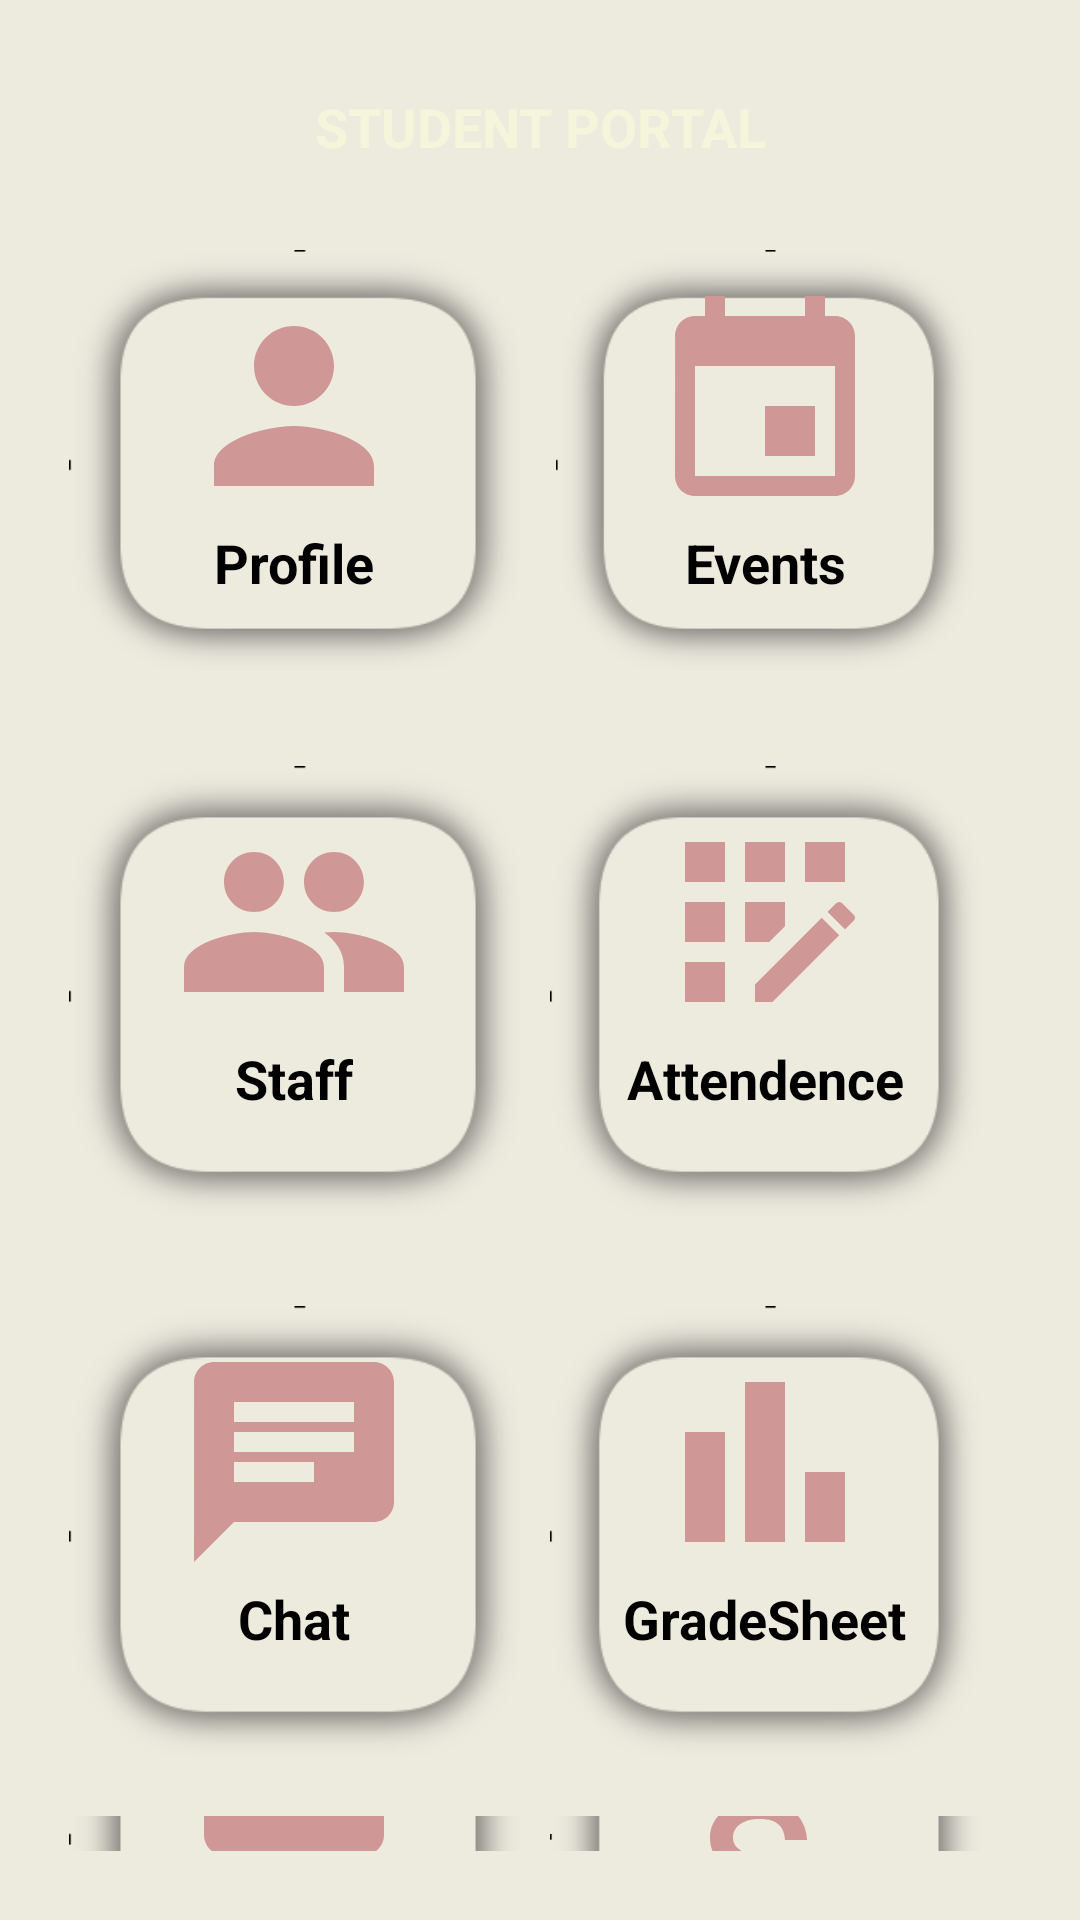

Icon click points for this 1080×1920 phone screenshot, format (x,y):
bar chart: (765,1462)
people: (294,922)
person: (294,406)
registration: (765,922)
